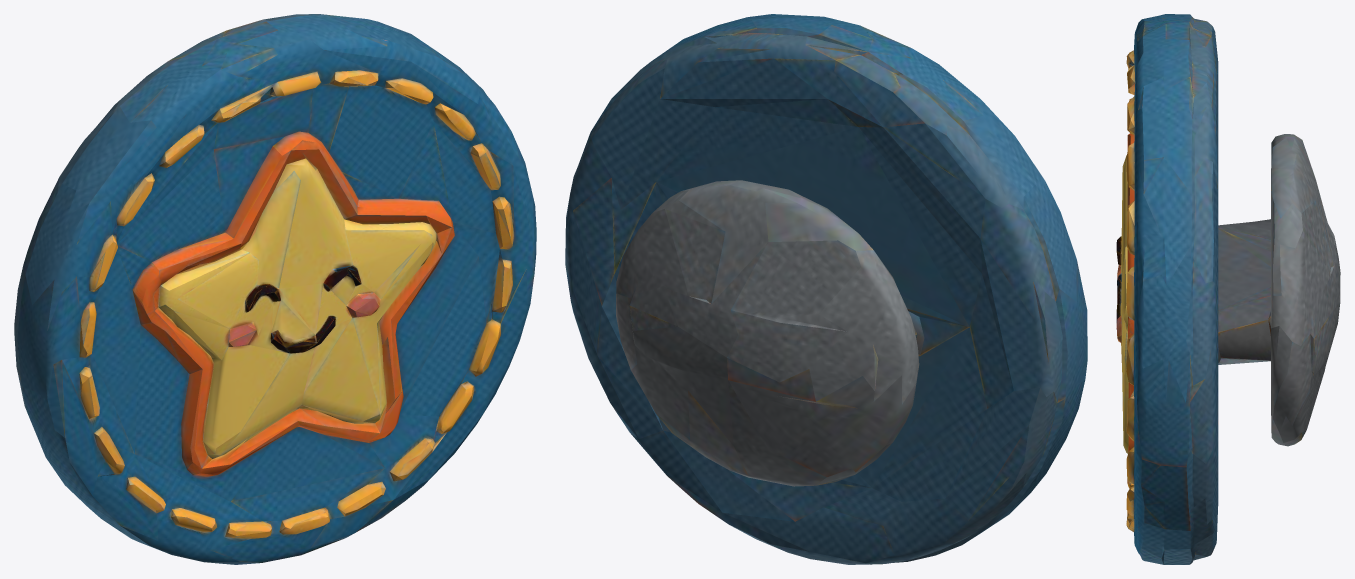
Rendered from badge_patch.fbx.
3 views of the same model, side by side, from view 1: azimuth 30°, elevation 25°; view 2: azimuth 150°, elevation 25°; view 3: azimuth 270°, elevation 25° (orthographic). The views are drawn at different scales.
Visible parts, largest first — view 1: Mesh_0; view 2: Mesh_0; view 3: Mesh_0.
Boxes of the visible parts, x1,y1,x2,y2 form: Mesh_0: (14, 14, 536, 564); Mesh_0: (565, 14, 1087, 564); Mesh_0: (1116, 14, 1340, 564).
Bounding box in the file's own units: 1.89 × 1.89 × 0.7682.
1 material, 1 textured.
